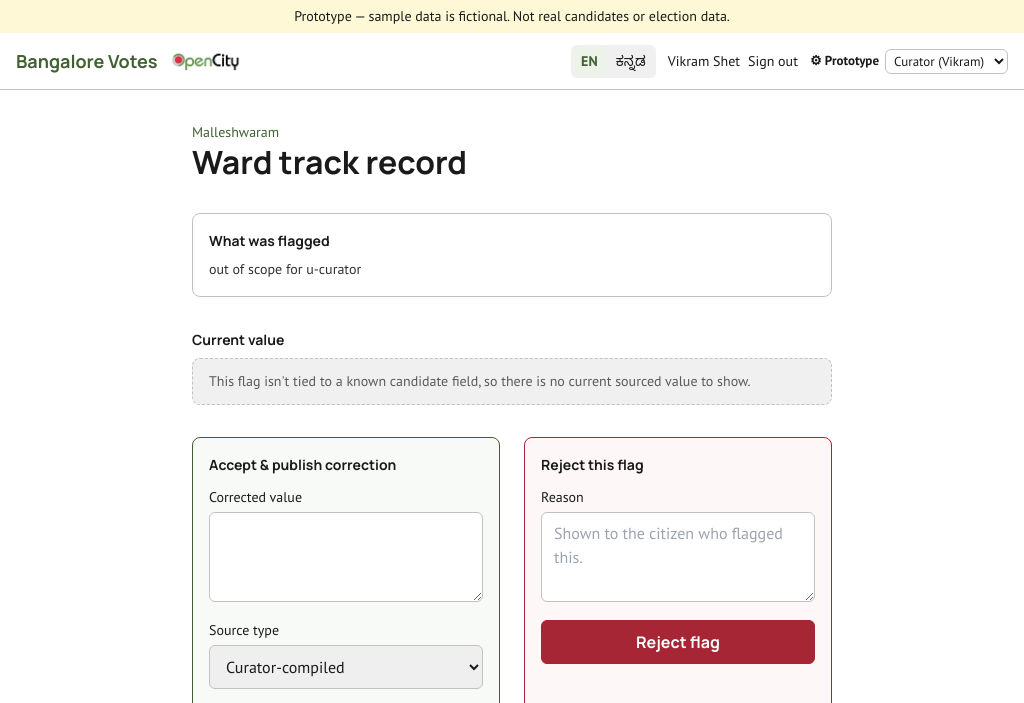
Test case: curator cannot act outside their ward scope — store error surfaces inline, no crash
In the text box labelled "Corrected value": (346, 557) [209,512,483,602], type "Some replacement text."
(page scrolled)
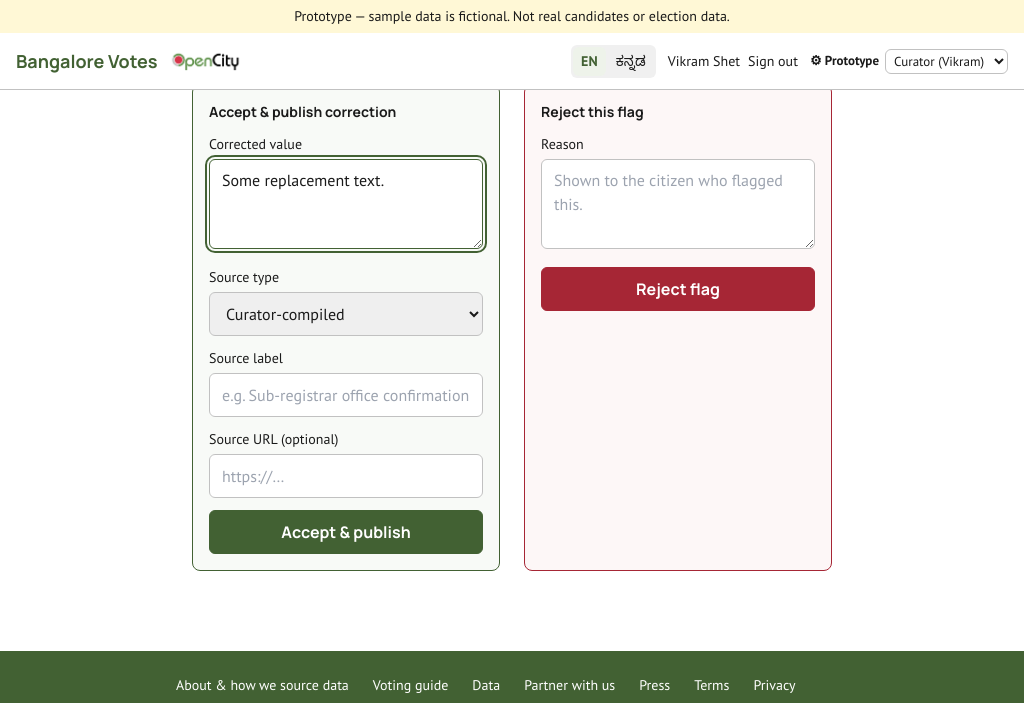
In the field labelled "Source label": (346, 395) [209,373,483,417], type "Some source"
(page scrolled)
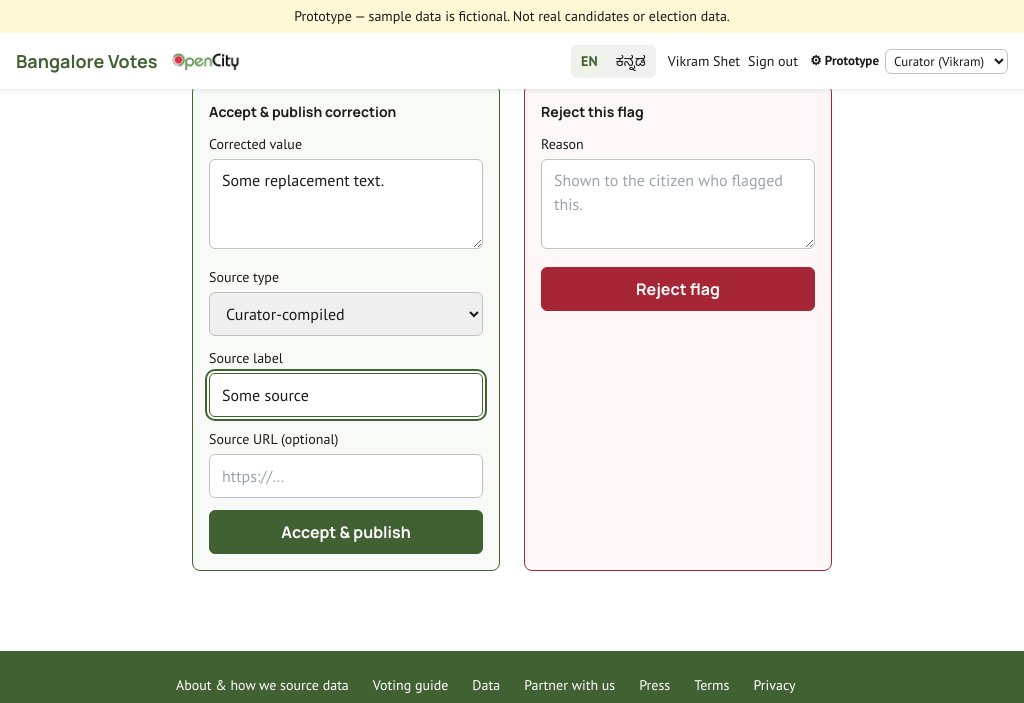
Click the button "Accept & publish": (346, 532) [209,510,483,554]
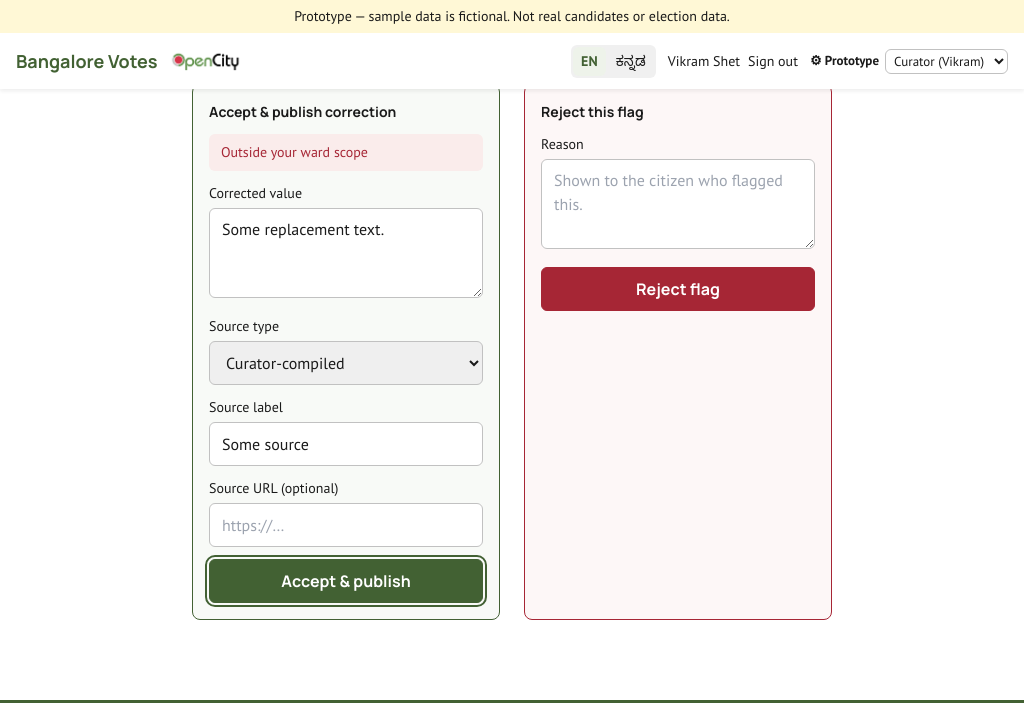
Check: the message shows "scope", box [221,143,368,161]
